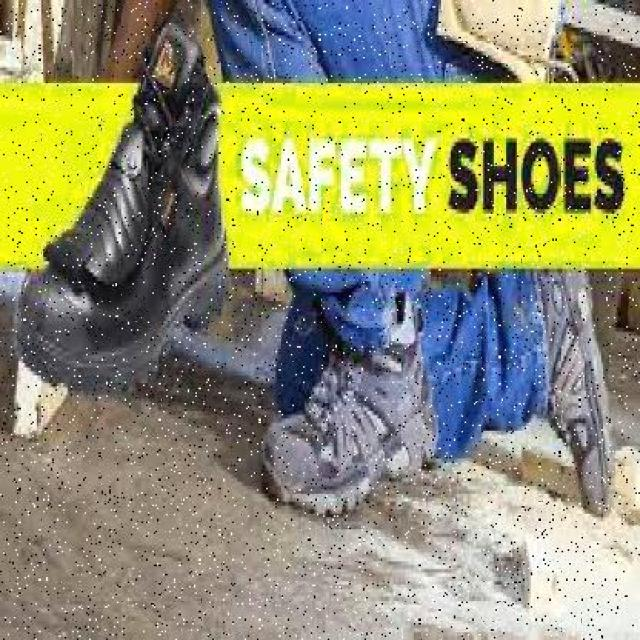shoes: (270, 316, 436, 522), (529, 245, 620, 524)
